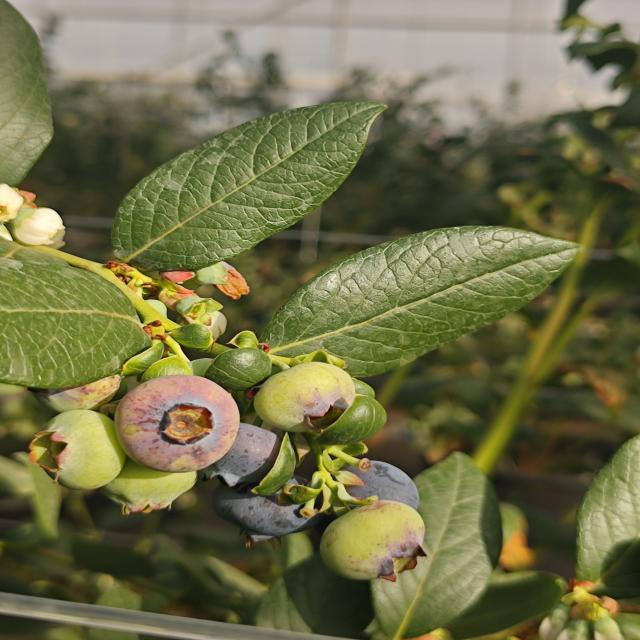ripe: (204, 475, 330, 545), (335, 456, 426, 518)
